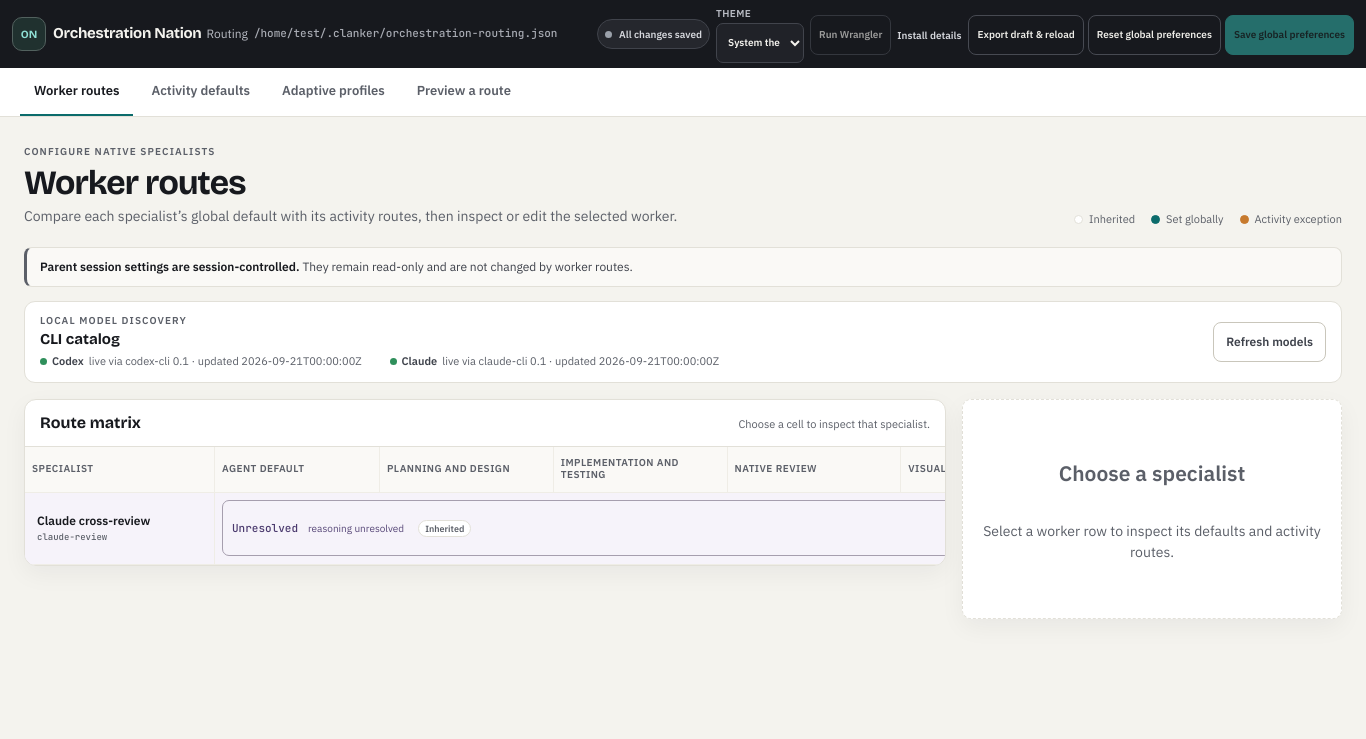
routing editor › associates an effective route-root error with its controls and clears it after correction
Click the tab "Activity defaults".
click(201, 92)  # box [138,68,264,116]
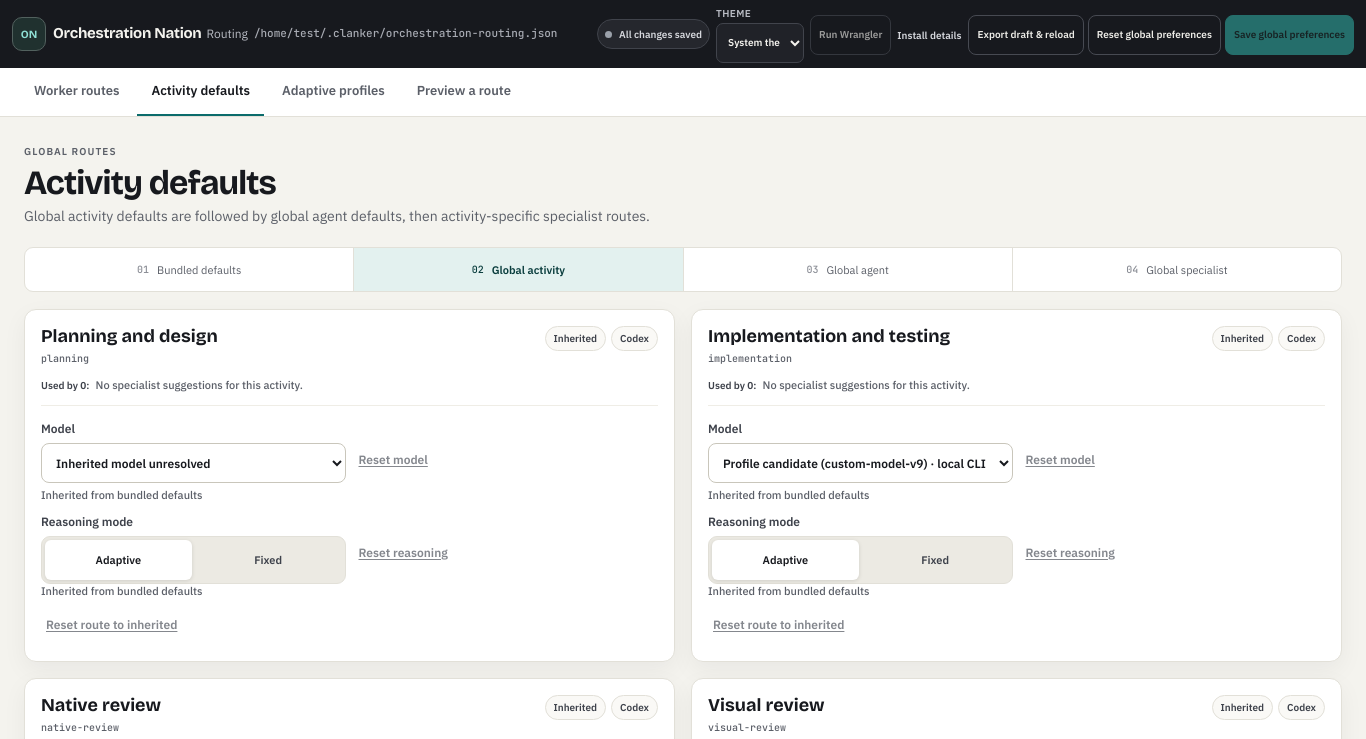
Select "Profile candidate (custom-model-v9) · local CLI" in the dropdown labelled "Model Inherited from bundled defaults" below "Implementation and testing" at (860, 463), box [708,443,1012,483]
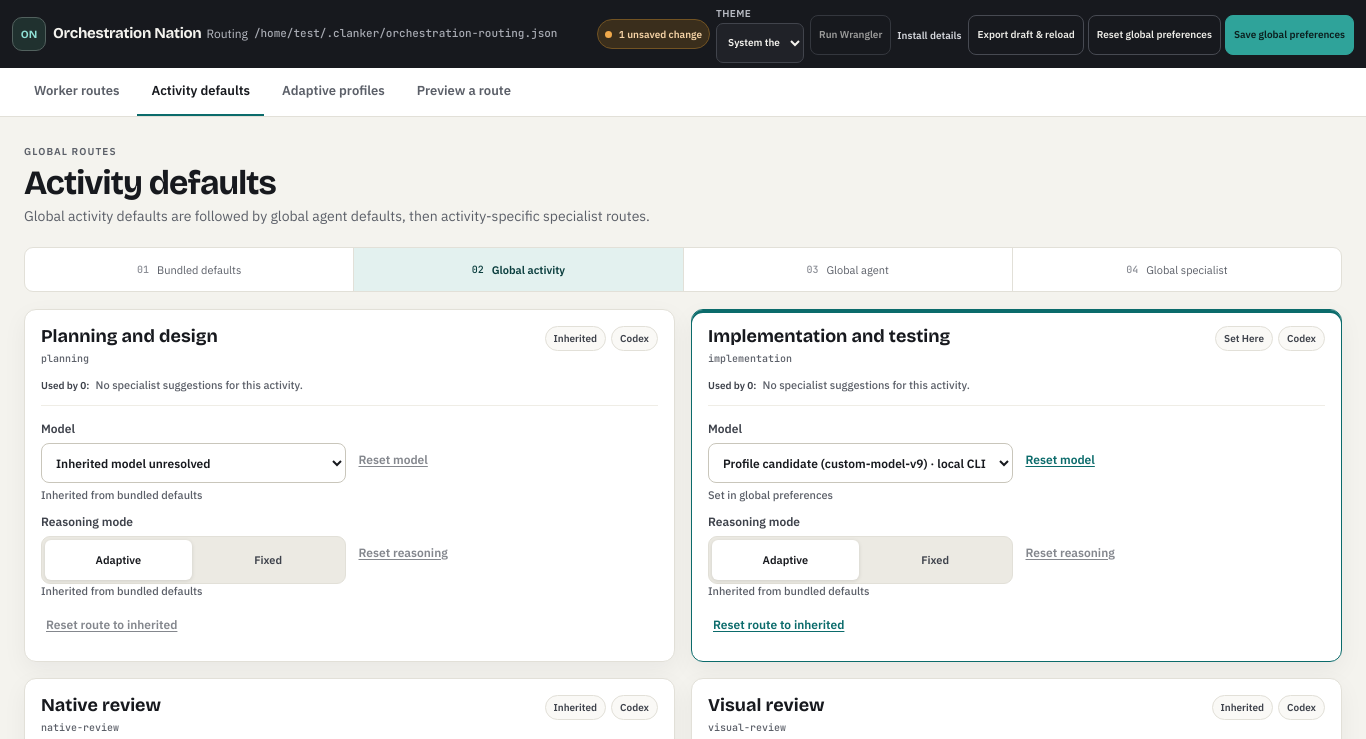
Click the button "Save global preferences".
click(1289, 35)  # box [1225,15,1354,55]
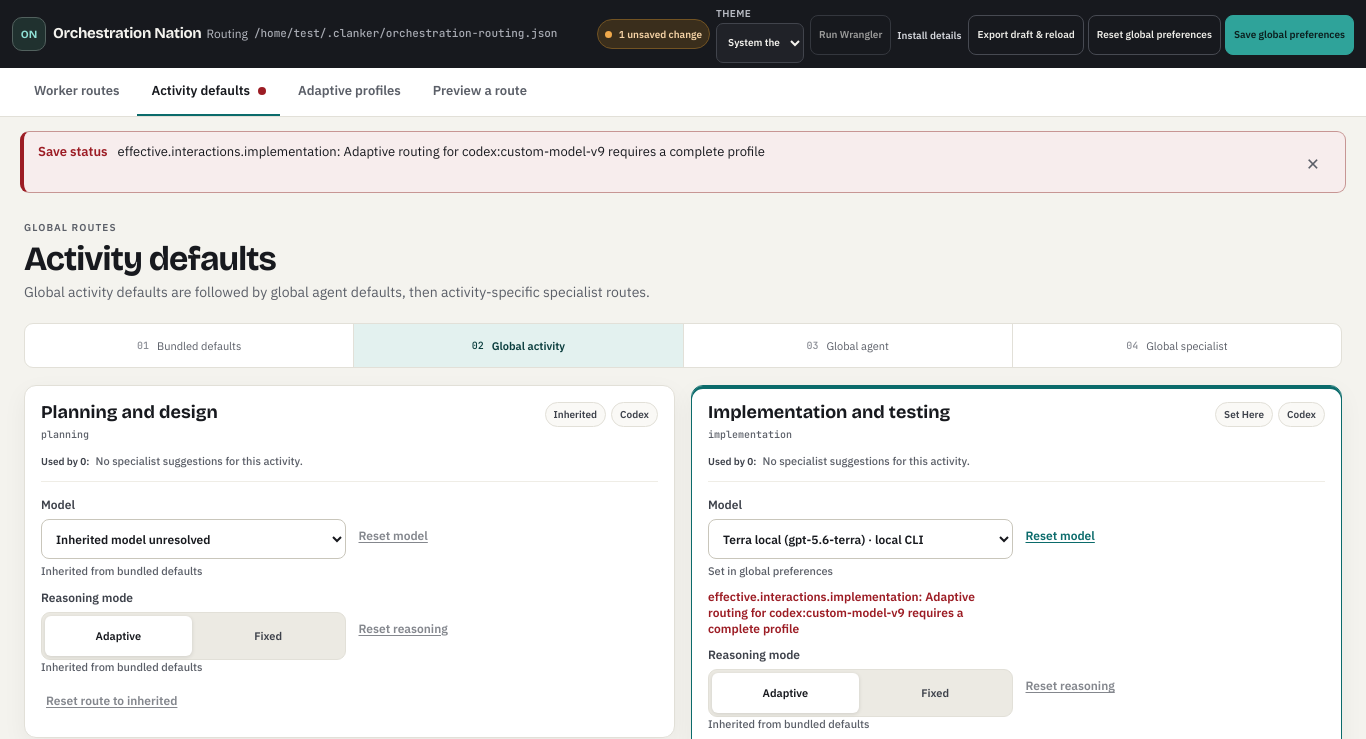
expect the text "requires a complete profile" is shown: met, box [118,143,765,160]
Select "Terra local (gpt-5.6-terra) · local CLI" in the dropdown named "Model" at (860, 539), box [708,519,1012,559]
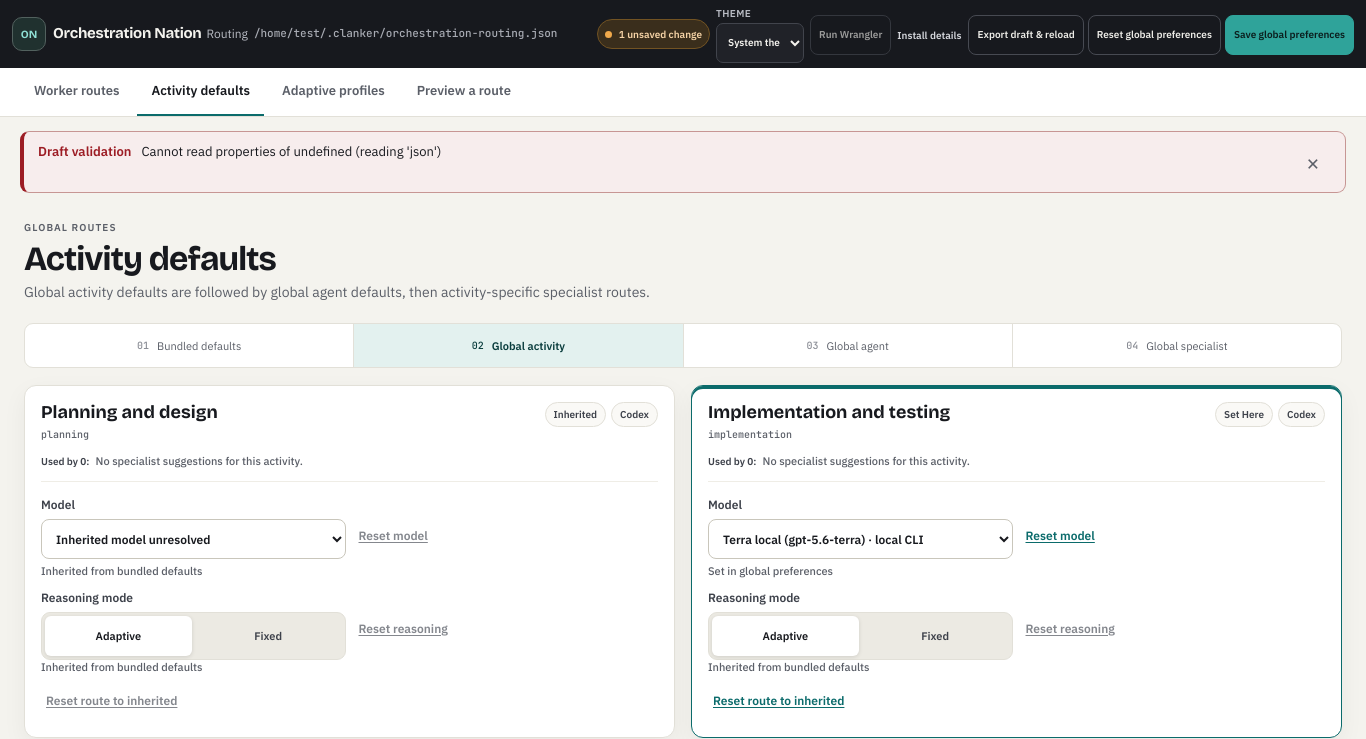
expect the text "requires a complete profile" is gone: met
